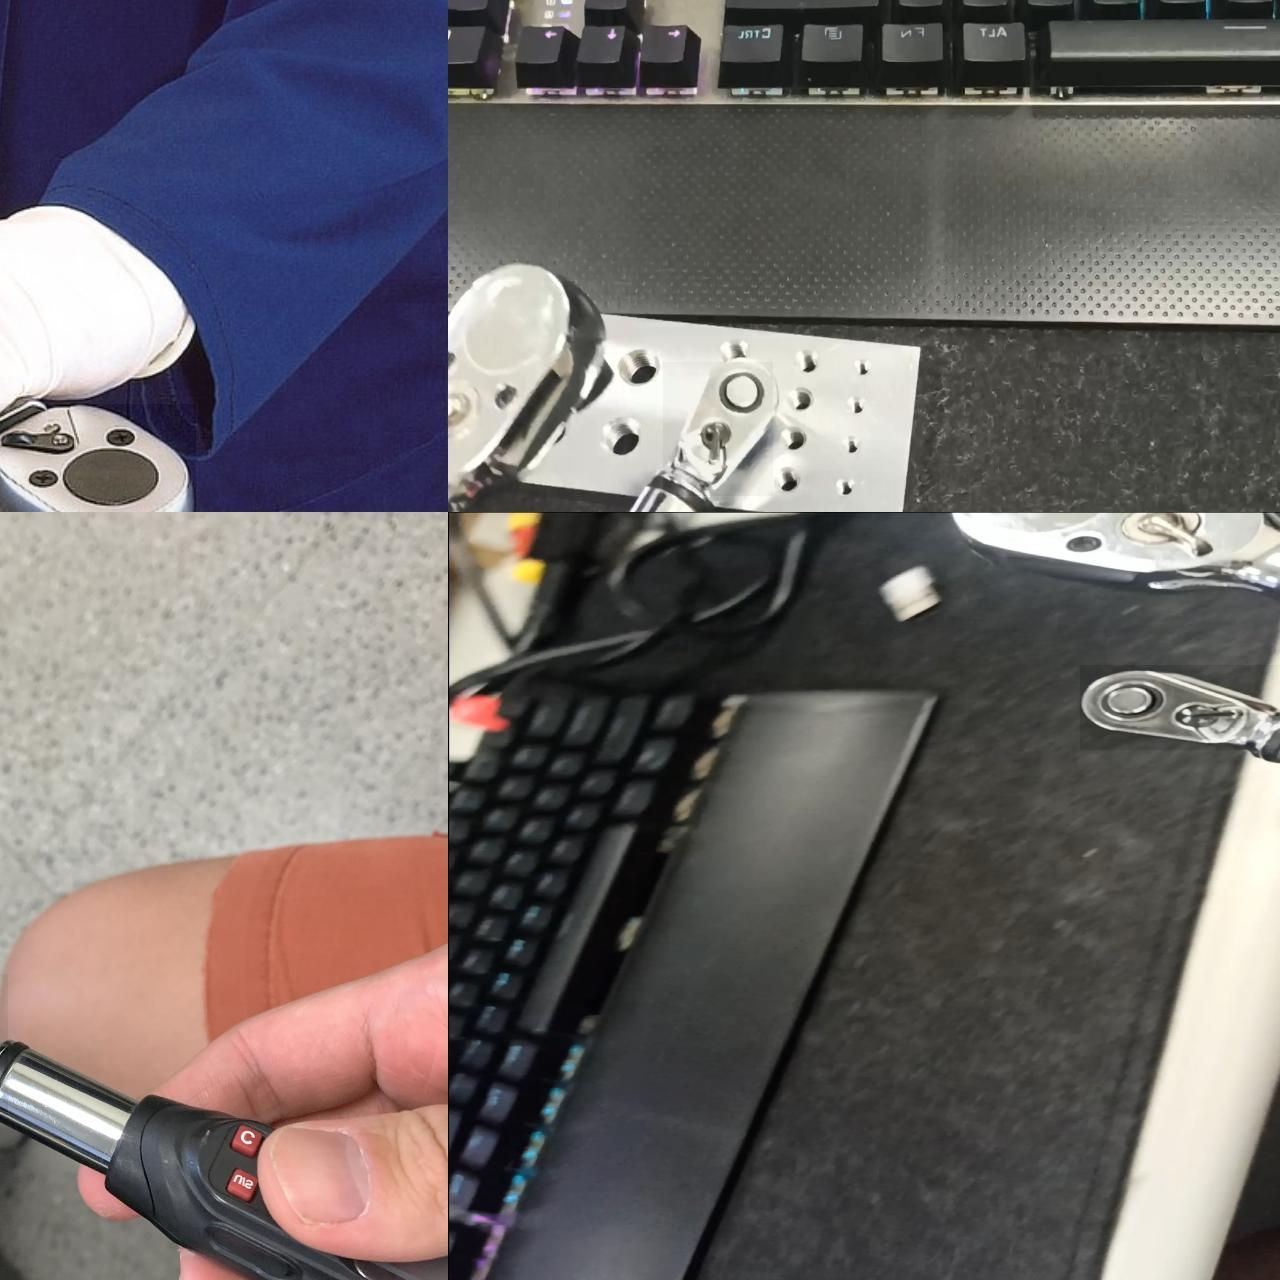Tool: (448, 269, 600, 512), (0, 403, 195, 512), (1079, 664, 1280, 750), (662, 361, 772, 495)
hole: (604, 407, 655, 468), (612, 340, 660, 389), (789, 349, 824, 378), (718, 337, 754, 359), (777, 467, 799, 500), (781, 425, 806, 454), (789, 387, 813, 414), (842, 436, 863, 460), (850, 398, 870, 421), (835, 482, 860, 499), (858, 357, 873, 381)
